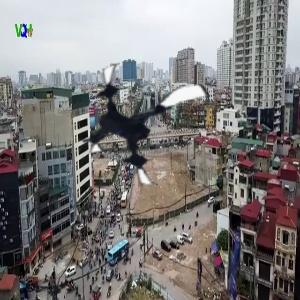drone: (76, 52, 217, 193)
